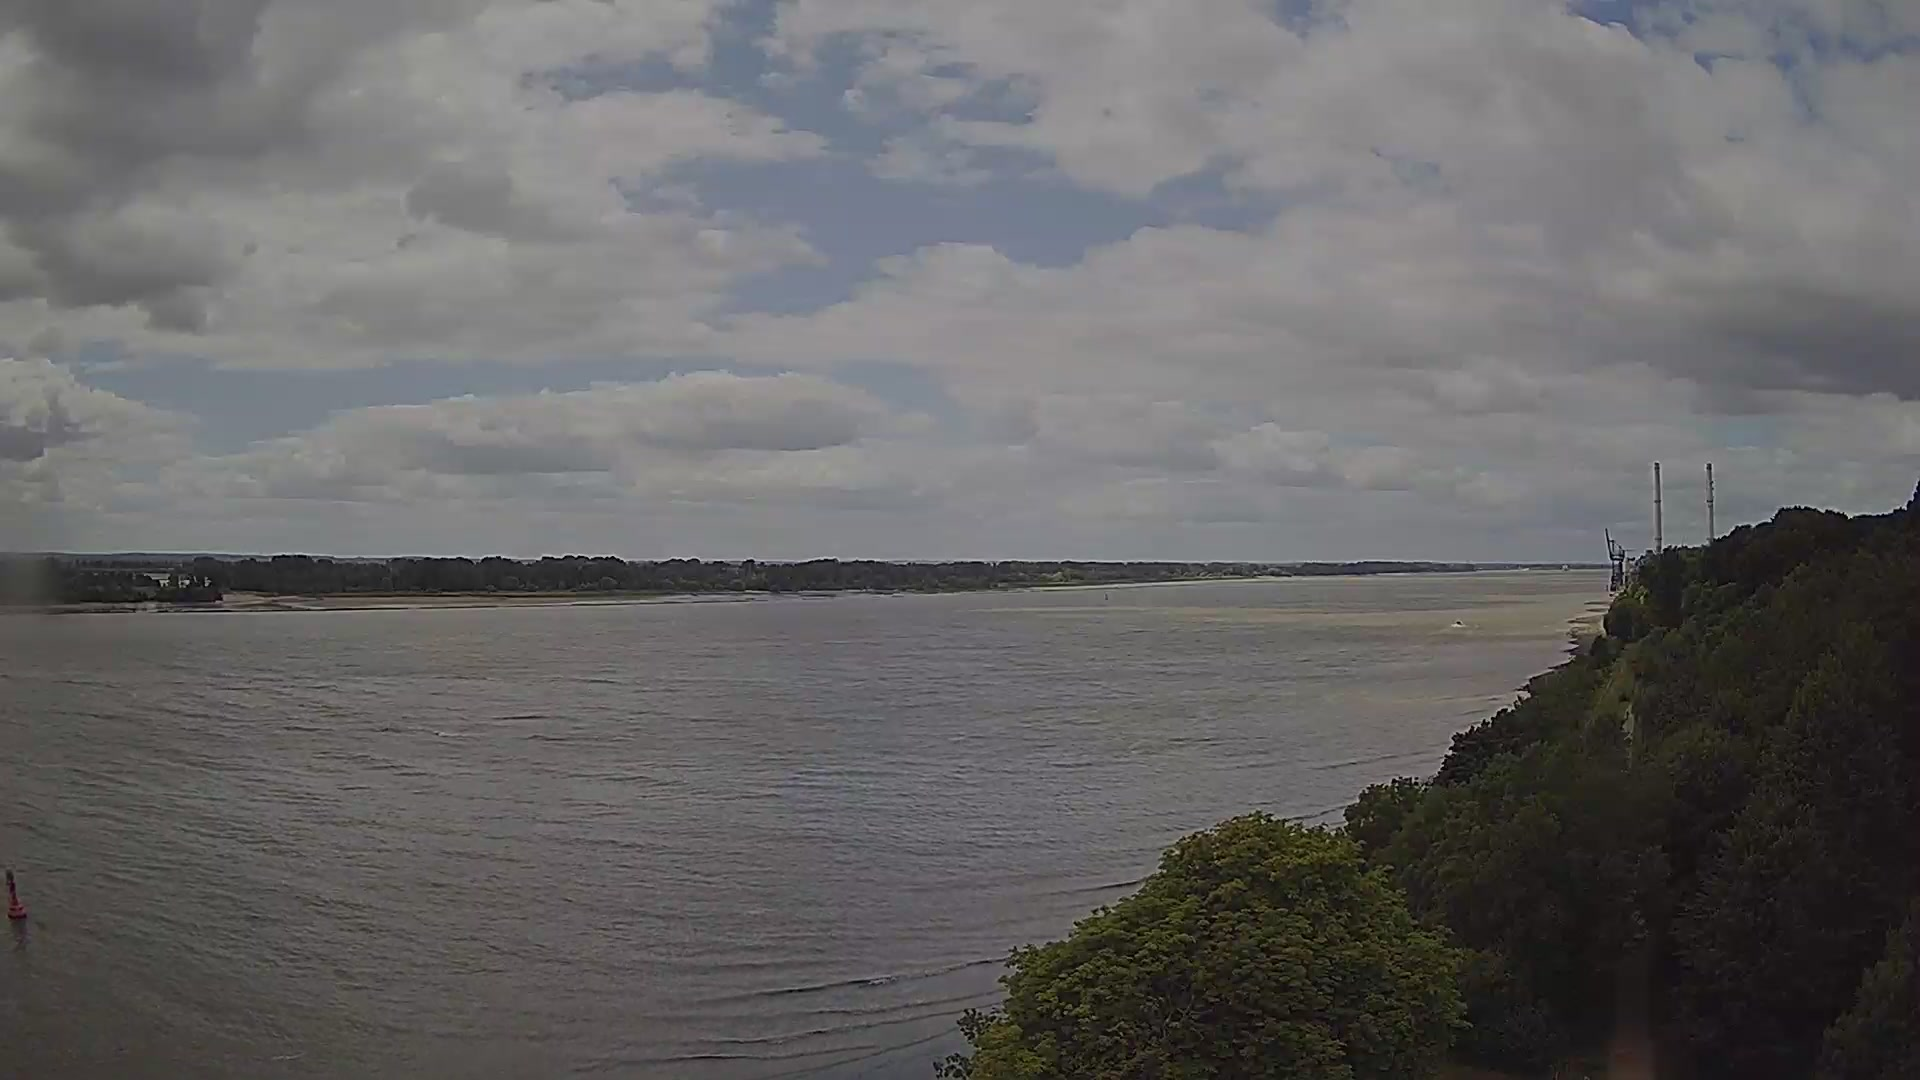sea: (1455, 618, 1462, 625)
